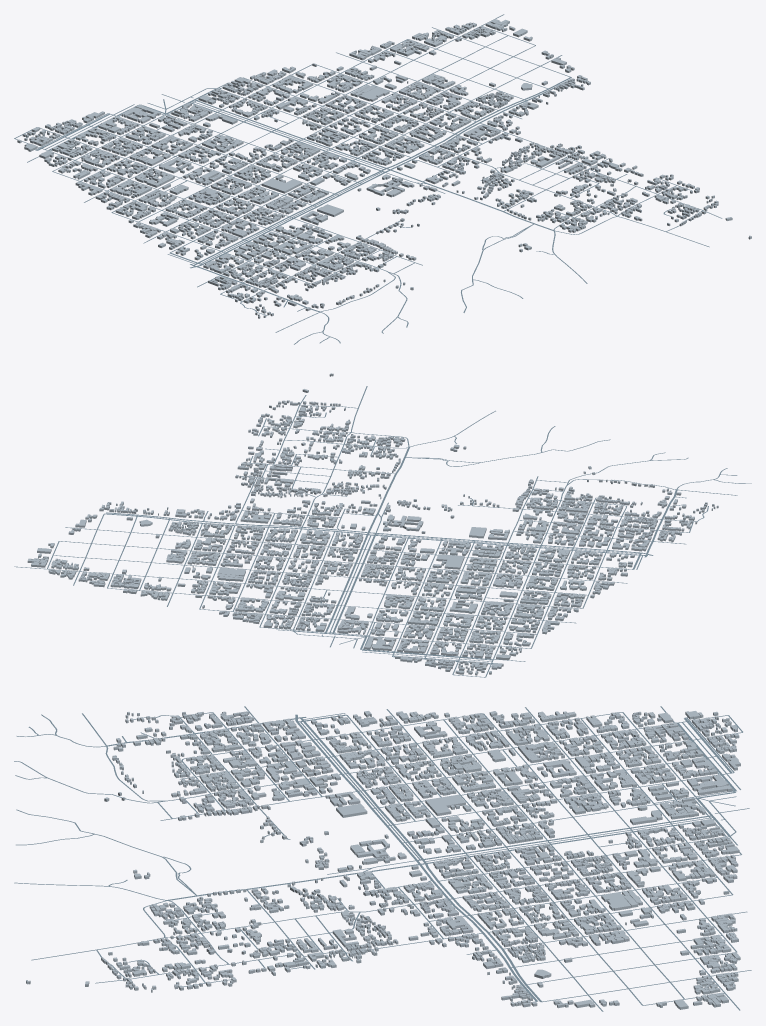
The picture shows the model from 3 angles, top to bottom: view 1: azimuth 30°, elevation 25°; view 2: azimuth 150°, elevation 25°; view 3: azimuth 270°, elevation 25°; orthographic projection. The views are drawn at different scales.
Bounding box in the file's own units: 2004 × 8 × 2044.
